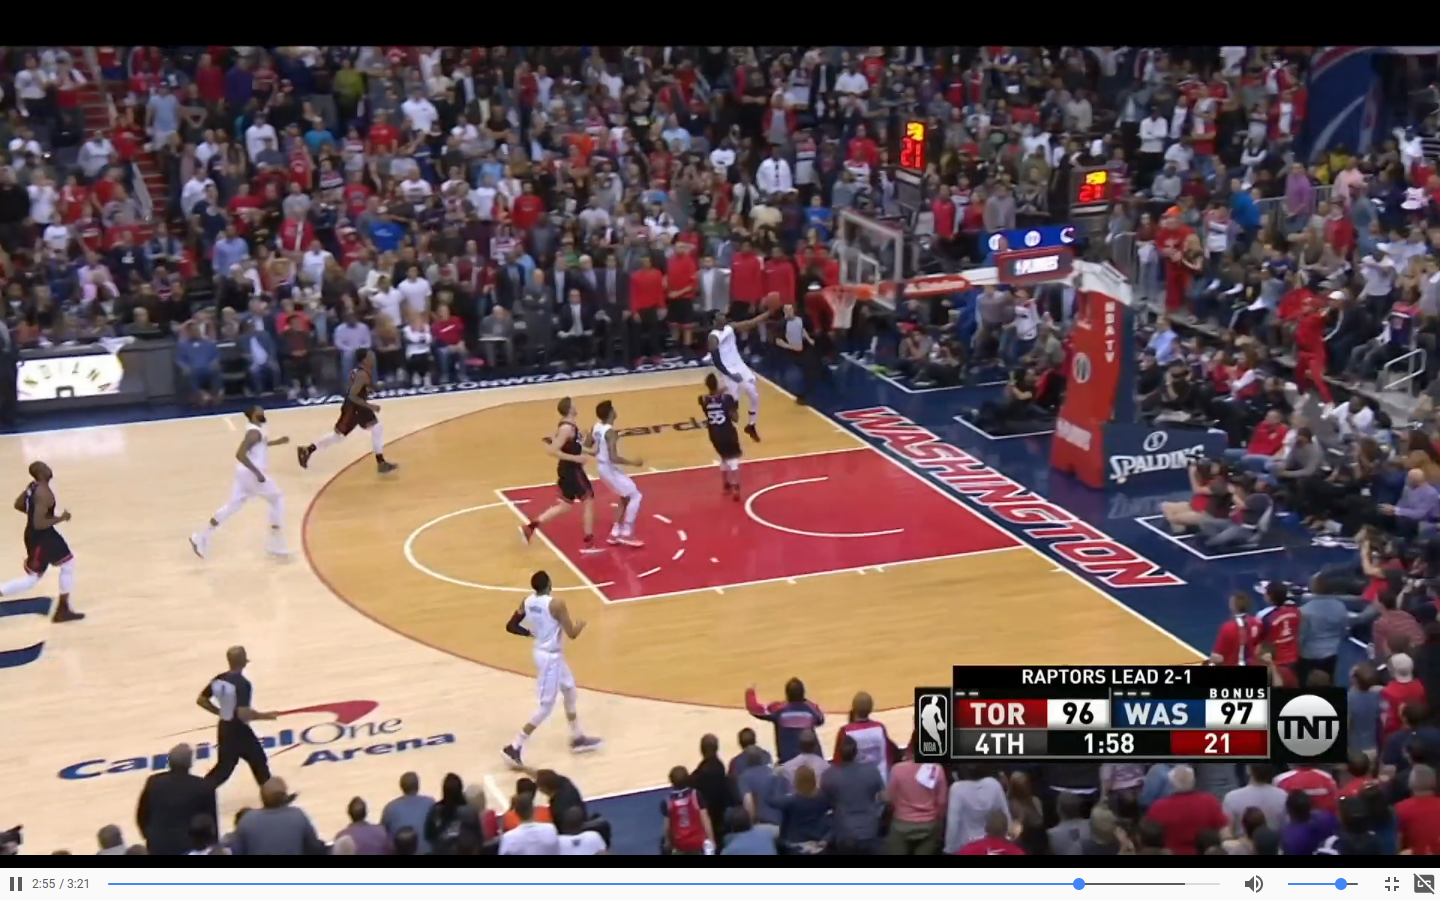basketball: (764, 285, 787, 322)
basketball player: (499, 565, 598, 771), (187, 400, 302, 563), (295, 343, 401, 488), (2, 454, 79, 634), (518, 391, 593, 557), (595, 392, 653, 551), (710, 303, 767, 426), (696, 369, 745, 508)
referee: (193, 631, 276, 803), (770, 302, 828, 399)
